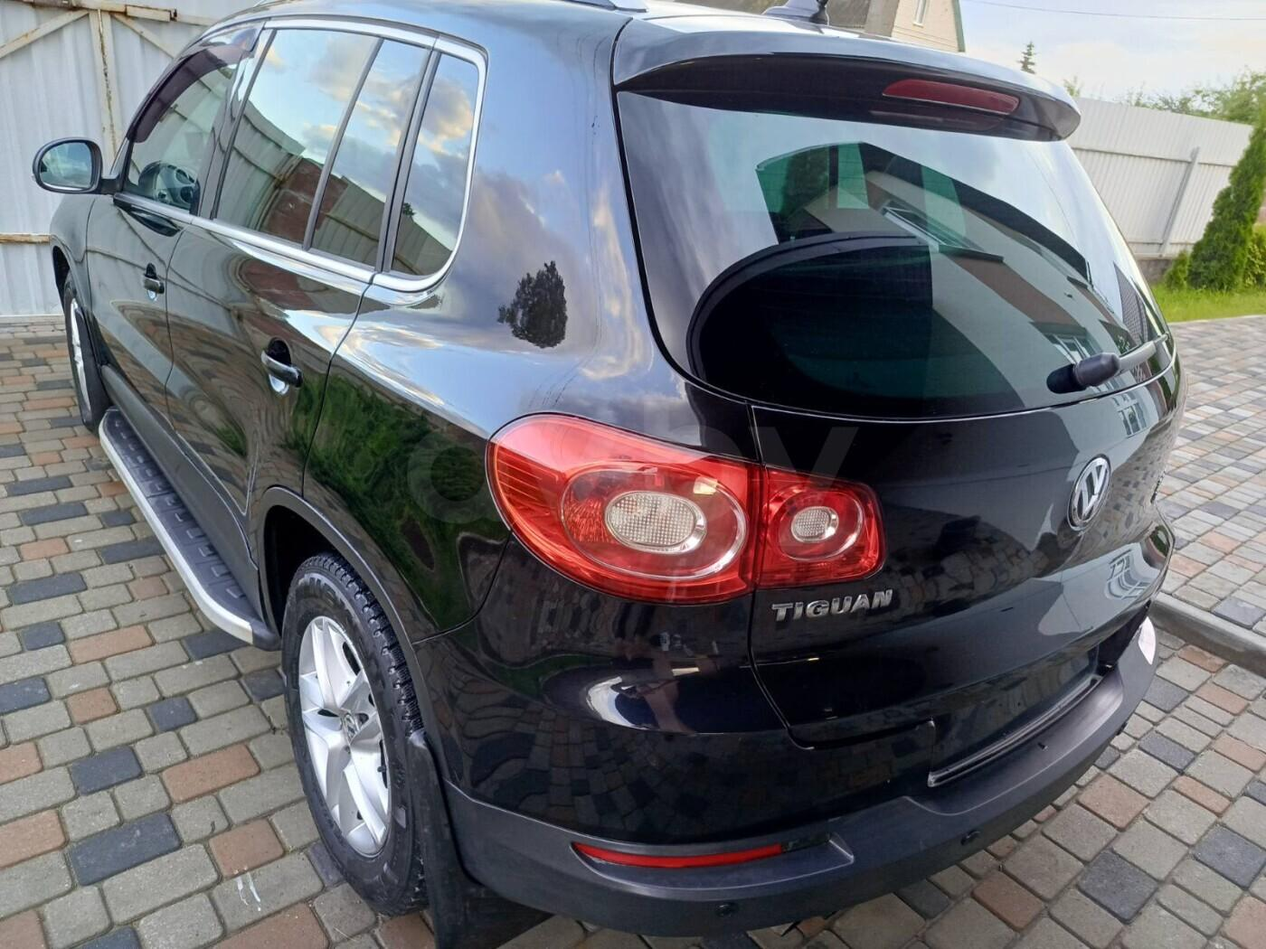Tiguan_2007-2011: (26, 0, 1183, 934)
